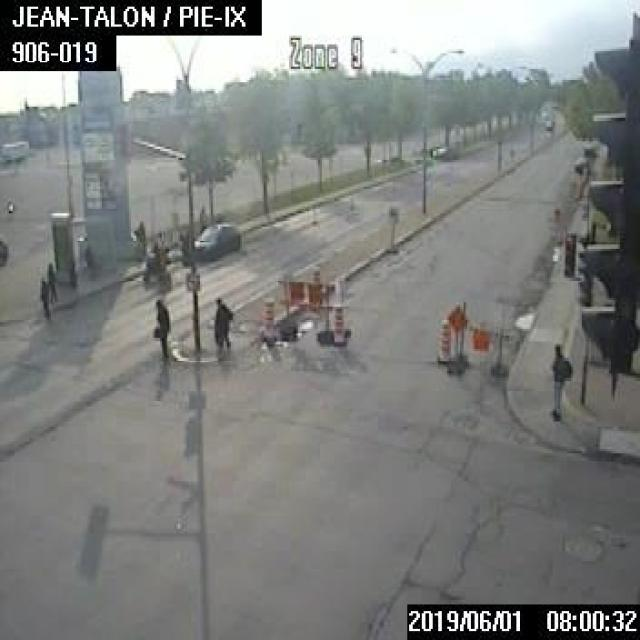construction: (446, 299, 509, 377), (274, 268, 334, 344), (258, 300, 275, 342), (436, 316, 450, 363), (330, 304, 346, 345)
pedestrian: (547, 342, 573, 420), (211, 295, 231, 349), (151, 298, 169, 353), (45, 261, 56, 301), (37, 277, 48, 317)
vehicle: (192, 220, 240, 263), (140, 240, 173, 282), (432, 143, 452, 159), (571, 157, 588, 171), (0, 234, 7, 265), (580, 143, 594, 156), (542, 118, 552, 130)
